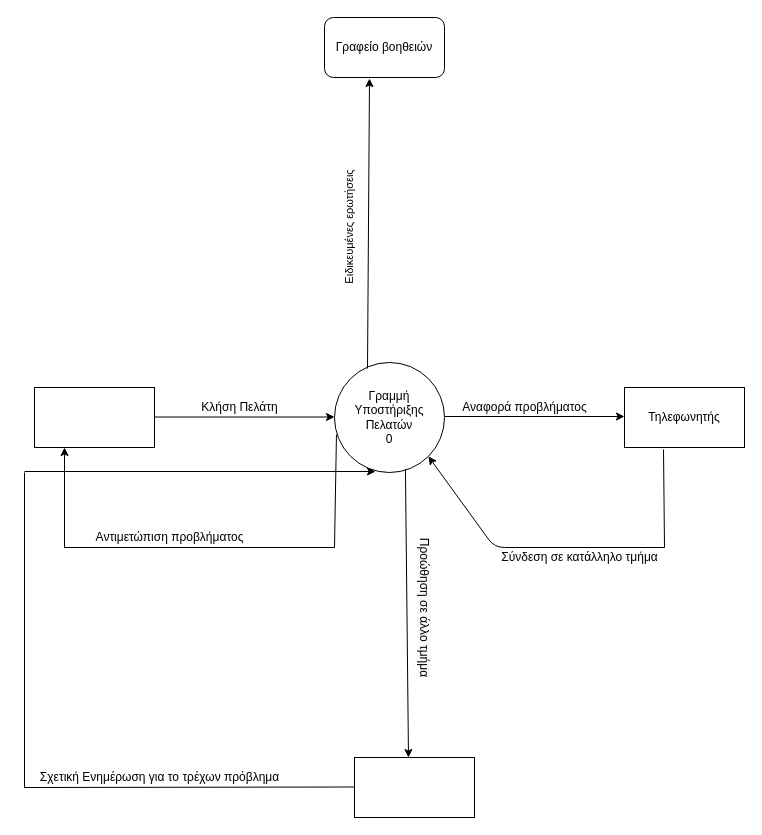
This 762x835 diagram has some shape labels left out. Each missing label, with the centre of its shape:
"Άλλα τμήματα" goes at (x=414, y=787).
"Πελάτης" goes at (x=94, y=417).
